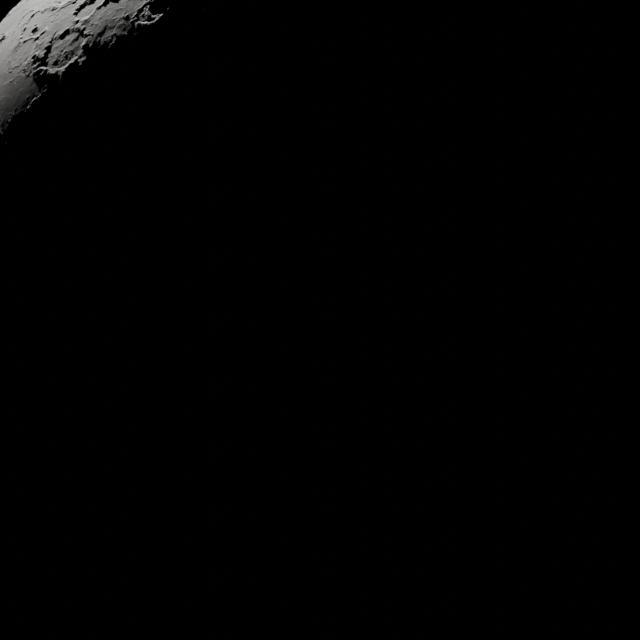rock: (72, 3, 103, 27), (86, 20, 113, 46), (42, 57, 74, 77), (1, 68, 29, 90), (38, 42, 55, 64), (80, 34, 97, 54), (138, 5, 156, 22), (66, 53, 84, 70), (28, 27, 48, 42), (31, 65, 51, 77), (25, 9, 42, 23), (73, 2, 88, 16), (78, 25, 90, 38), (97, 1, 114, 10), (58, 30, 69, 40), (40, 84, 49, 93), (31, 25, 39, 34), (21, 26, 28, 33), (6, 68, 12, 74)
